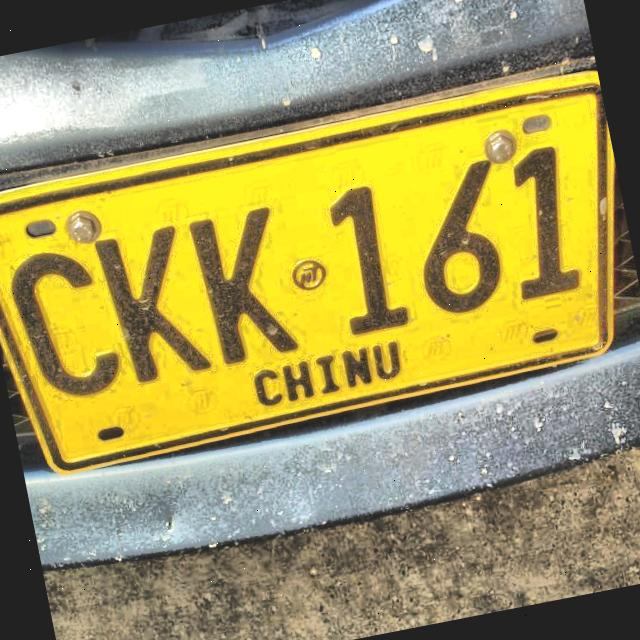1: (318, 176, 419, 345), (506, 136, 592, 305)
6: (396, 152, 518, 326)
C: (0, 244, 130, 412)
K: (91, 211, 221, 393), (183, 203, 310, 376)
